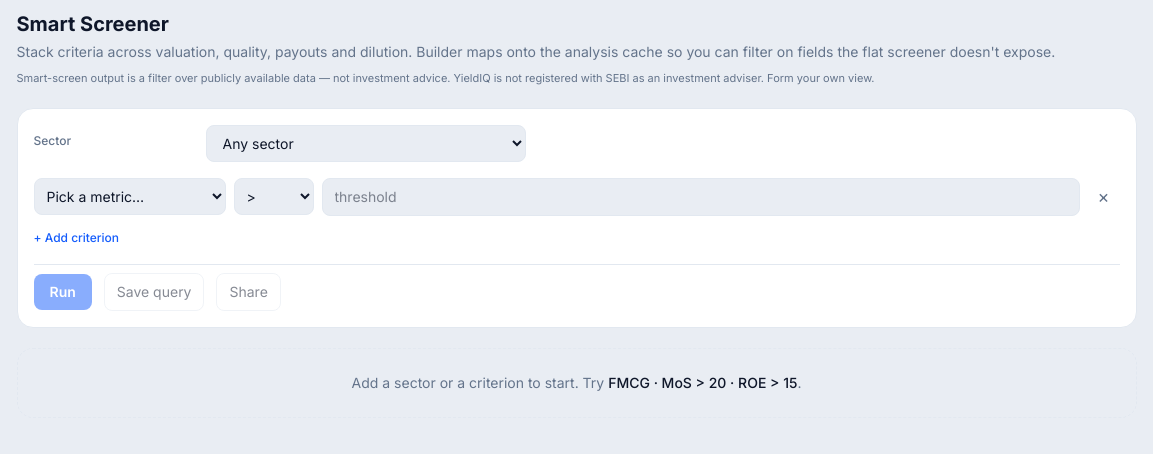
Test: Smart Screener builder › adds and removes criterion rows
Check: the element with test id "smart-builder" is shown, box top-left (16, 108), bottom-right (1136, 328)
Check: the number of elements with test id "smart-criterion-row" is 1, box top-left (34, 178), bottom-right (1120, 216)
Click the button "+ Add criterion": {"x": 76, "y": 238} top-left (34, 230), bottom-right (119, 246)
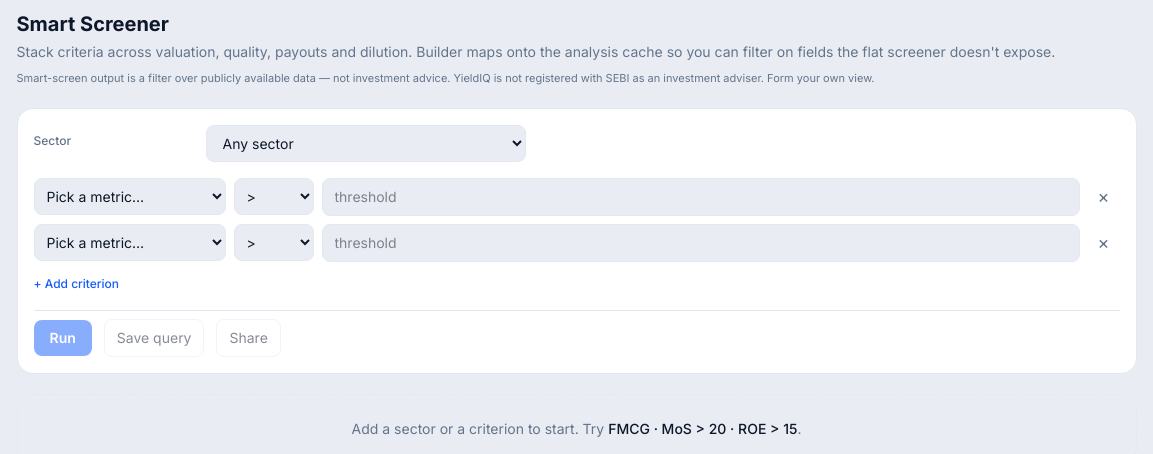
Check: the number of elements with test id "smart-criterion-row" is 2, box top-left (34, 178), bottom-right (1120, 216); top-left (34, 224), bottom-right (1120, 262)
// Remove the second row.
Click the button named "Remove criterion": {"x": 1104, "y": 243} top-left (1088, 234), bottom-right (1120, 252)
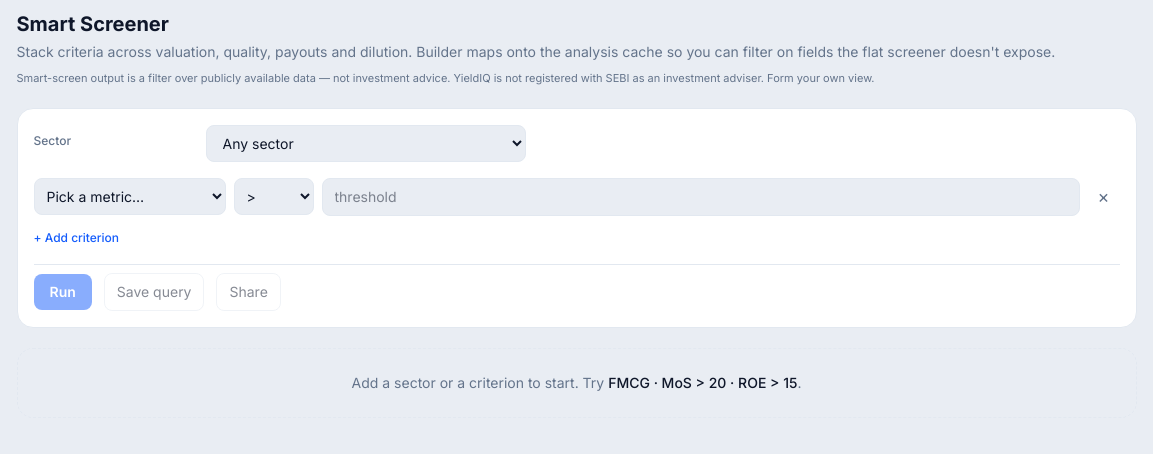
Check: the number of elements with test id "smart-criterion-row" is 1, box top-left (34, 178), bottom-right (1120, 216)
